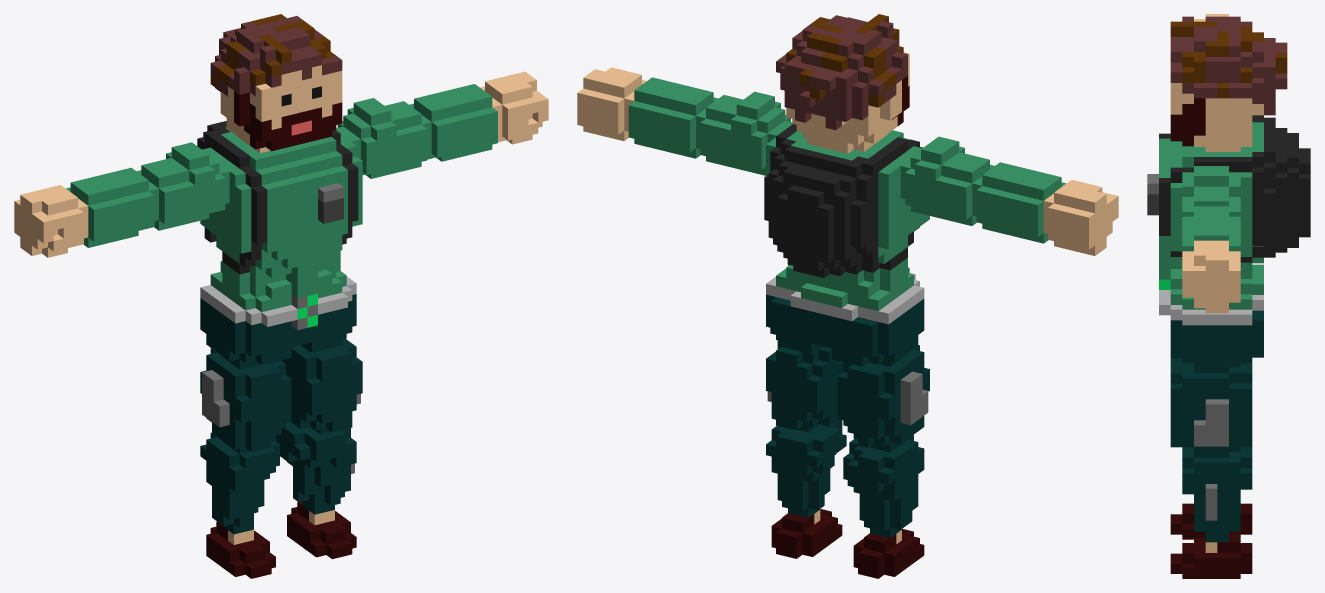
Rendered from human_man_adventurer.glb.
The picture shows the model from 3 angles, left to right: view 1: azimuth 30°, elevation 25°; view 2: azimuth 150°, elevation 25°; view 3: azimuth 270°, elevation 25°; orthographic projection.
Parts seen in each view (by area): view 1: human_man_adventurer; view 2: human_man_adventurer; view 3: human_man_adventurer.
Part boxes in pixels (bbox=[...]): human_man_adventurer: bbox=[14, 14, 548, 578]; human_man_adventurer: bbox=[577, 14, 1118, 578]; human_man_adventurer: bbox=[1147, 14, 1310, 578].
Size of the model in its own units: 5 by 4.9 by 1.4.
1 material, 1 textured.
